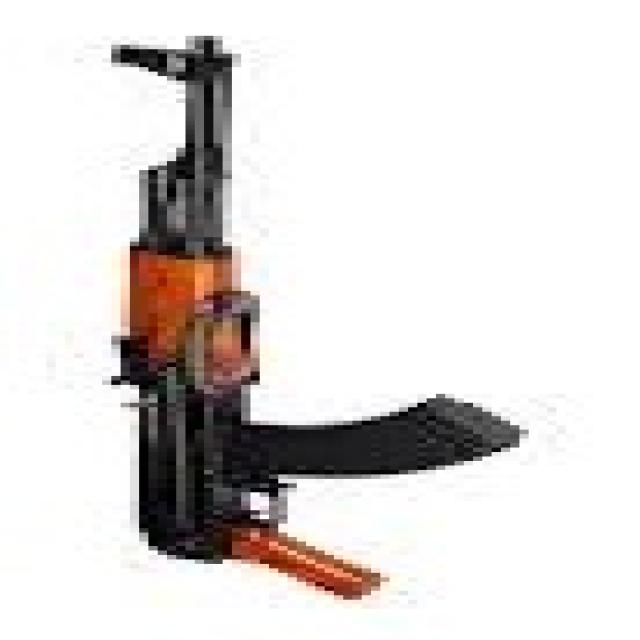rifle: (92, 24, 536, 614)
